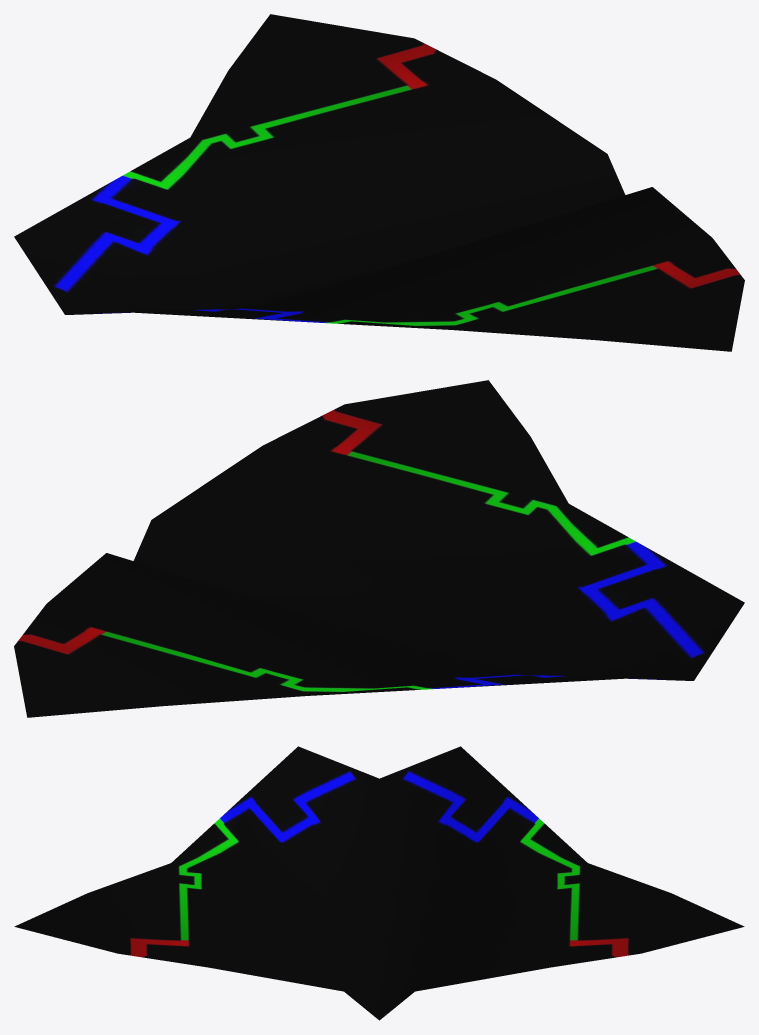
The picture shows the model from 3 angles, top to bottom: view 1: azimuth 30°, elevation 25°; view 2: azimuth 150°, elevation 25°; view 3: azimuth 270°, elevation 25°; orthographic projection. The views are drawn at different scales.
Parts seen in each view (by area): view 1: SM_VFX_Beetle_LowPoly_LOD0; view 2: SM_VFX_Beetle_LowPoly_LOD0; view 3: SM_VFX_Beetle_LowPoly_LOD0.
Boxes of the visible parts, x1,y1,x2,y2 form: SM_VFX_Beetle_LowPoly_LOD0: [14, 14, 744, 351]; SM_VFX_Beetle_LowPoly_LOD0: [14, 380, 744, 717]; SM_VFX_Beetle_LowPoly_LOD0: [14, 746, 744, 1020].
Size of the model in its own units: 0.0777 by 0.00925 by 0.1099.
